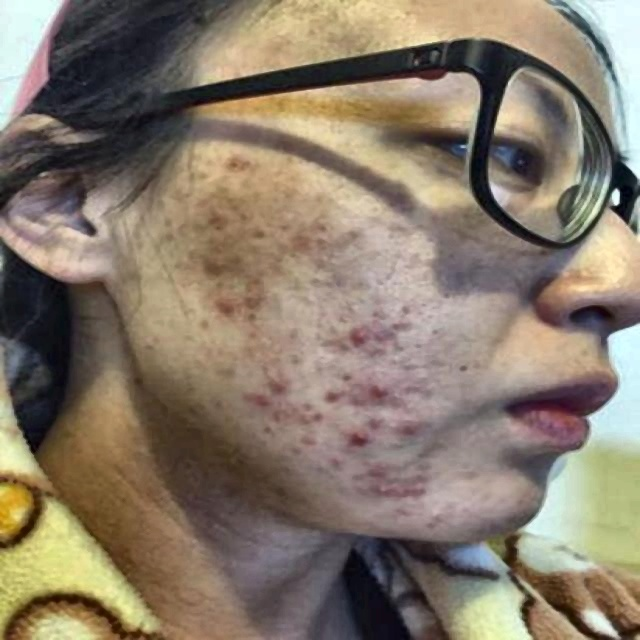pustule: (216, 152, 258, 178), (350, 420, 380, 453), (366, 381, 401, 406), (364, 458, 399, 483), (242, 387, 276, 412), (340, 320, 364, 349), (264, 371, 289, 397), (367, 481, 396, 502), (312, 384, 340, 405), (407, 477, 430, 502), (216, 294, 238, 311)
